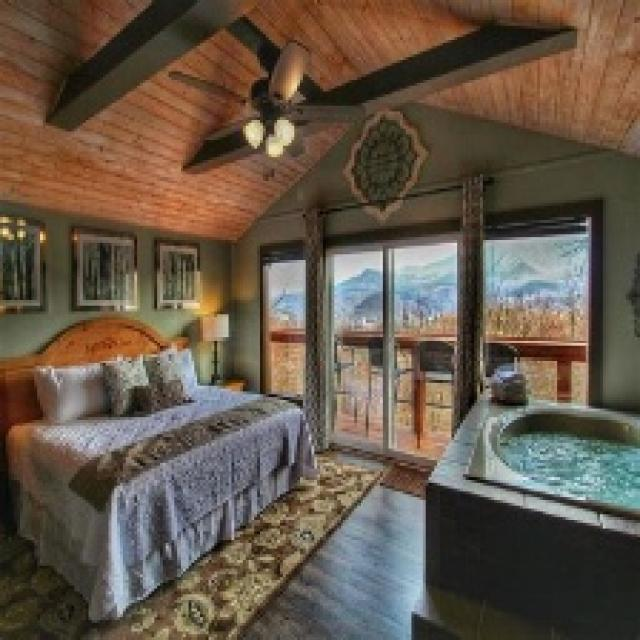Bed: (0, 314, 317, 623)
